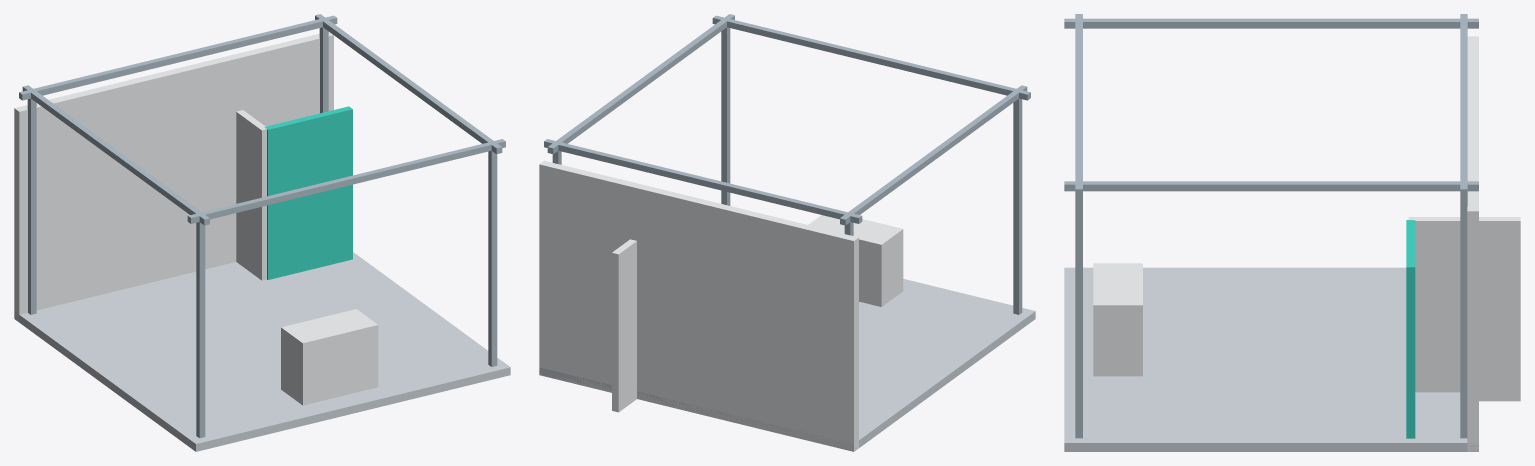
3 renders of one model, left to right at view 1: azimuth 30°, elevation 25°; view 2: azimuth 150°, elevation 25°; view 3: azimuth 270°, elevation 25°, orthographic. The views are drawn at different scales.
Visible parts, largest first — view 1: Exhibition Booth Concept; view 2: Exhibition Booth Concept; view 3: Exhibition Booth Concept.
Boxes of the visible parts, x1,y1,x2,y2 form: Exhibition Booth Concept: (14, 14, 510, 451); Exhibition Booth Concept: (539, 14, 1035, 451); Exhibition Booth Concept: (1064, 14, 1520, 451).
Bounding box in the file's own units: 5 × 3.49 × 5.51.
